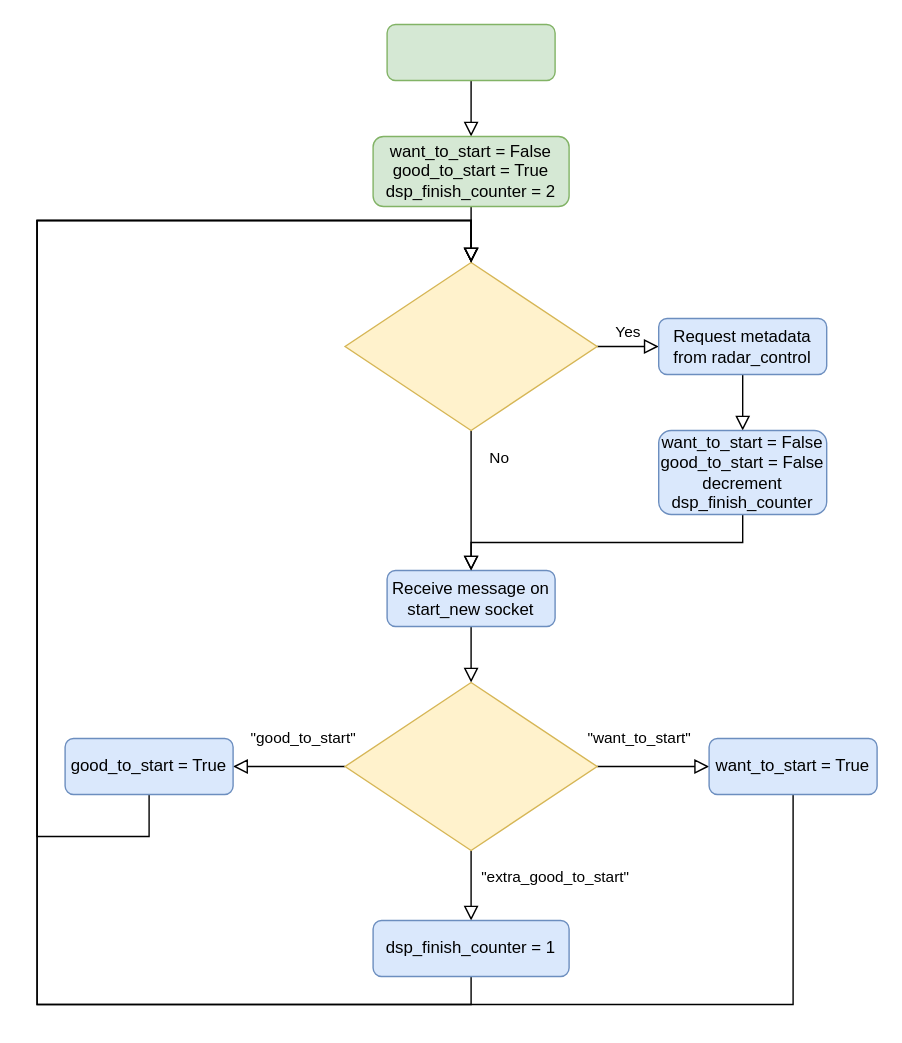
The diagram is 902 pixels wide and 1043 high, and some of its shapes have lost their labels. Each missing label, with the centre of its shape:
"Create start_new socket" belongs at point (470, 51).
"message == ?" belongs at point (470, 765).
"want_to_start? good_to_start? dsp_finish_counter > 0?" belongs at point (470, 345).
